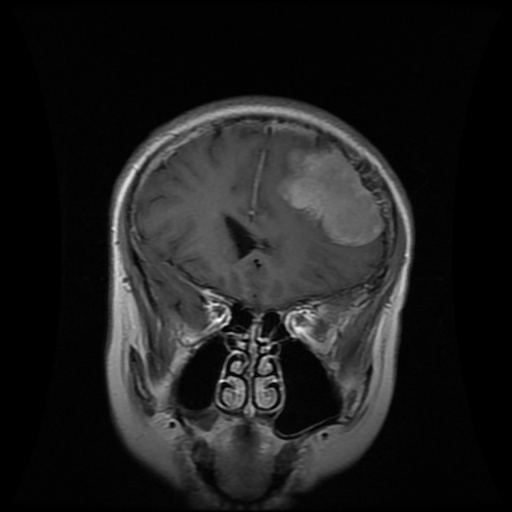meningioma: (279, 142, 385, 246)
